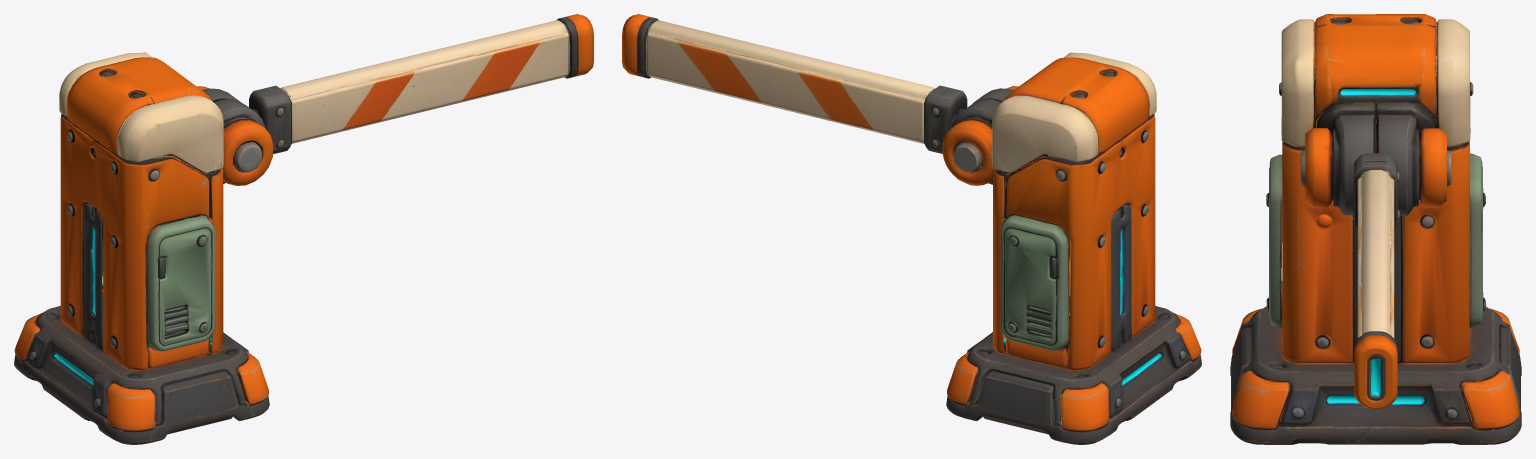
File: futuristic_barrier_arm_3d_model.fbx
3 views of the same model, side by side, from view 1: azimuth 30°, elevation 25°; view 2: azimuth 150°, elevation 25°; view 3: azimuth 270°, elevation 25° (orthographic). The views are drawn at different scales.
Visible parts, largest first — view 1: tripo_part_0, tripo_part_8, tripo_part_3, tripo_part_2, tripo_part_6, tripo_part_5, tripo_part_9, tripo_part_7, tripo_part_10; view 2: tripo_part_0, tripo_part_8, tripo_part_3, tripo_part_2, tripo_part_4, tripo_part_9, tripo_part_7, tripo_part_12; view 3: tripo_part_8, tripo_part_0, tripo_part_2, tripo_part_3, tripo_part_5, tripo_part_7, tripo_part_6, tripo_part_4.
Part boxes in pixels (box(x1,y1,x2,y2)): tripo_part_0: box(60, 113, 223, 370); tripo_part_8: box(14, 86, 269, 444); tripo_part_3: box(280, 14, 593, 143); tripo_part_2: box(59, 52, 223, 173); tripo_part_6: box(145, 215, 215, 351); tripo_part_5: box(214, 99, 273, 185); tripo_part_9: box(83, 202, 103, 350); tripo_part_7: box(202, 85, 291, 153); tripo_part_10: box(233, 142, 261, 172); tripo_part_0: box(993, 113, 1155, 370); tripo_part_8: box(942, 116, 1201, 444); tripo_part_3: box(622, 14, 934, 143); tripo_part_2: box(992, 52, 1156, 173); tripo_part_4: box(1000, 215, 1070, 350); tripo_part_9: box(1111, 204, 1131, 351); tripo_part_7: box(924, 85, 1001, 184); tripo_part_12: box(952, 141, 982, 172); tripo_part_8: box(1230, 128, 1521, 444); tripo_part_0: box(1279, 82, 1473, 363); tripo_part_2: box(1281, 14, 1470, 146); tripo_part_3: box(1354, 170, 1397, 408); tripo_part_5: box(1305, 102, 1435, 215); tripo_part_7: box(1352, 114, 1416, 230); tripo_part_6: box(1266, 154, 1282, 327); tripo_part_4: box(1469, 153, 1486, 327).
Size of the model in its own units: 0.9983 by 0.5649 by 0.4025.
